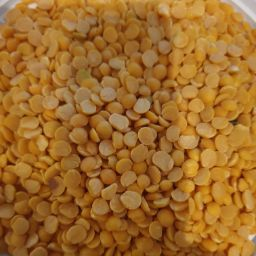Pigeon Pea(toor daal): (6, 7, 256, 256), (49, 17, 256, 160), (22, 23, 115, 248), (133, 53, 223, 256)
